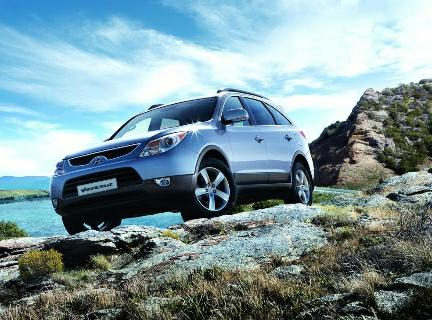car: (31, 89, 341, 234)
